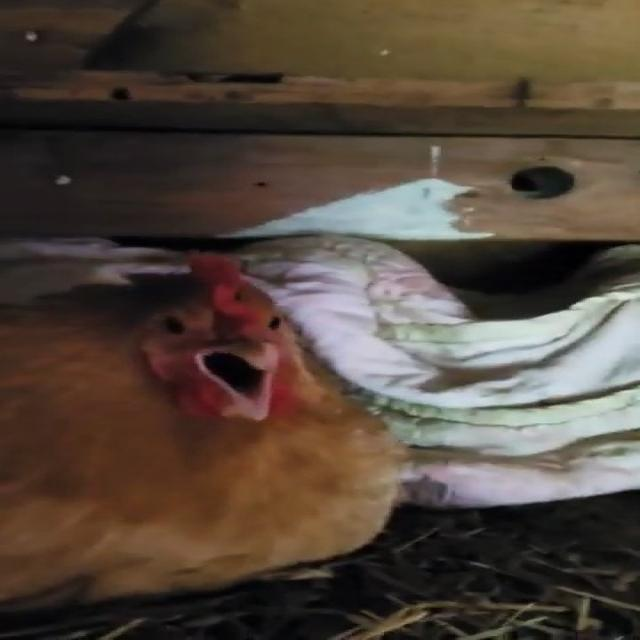menacing: (0, 242, 412, 592)
